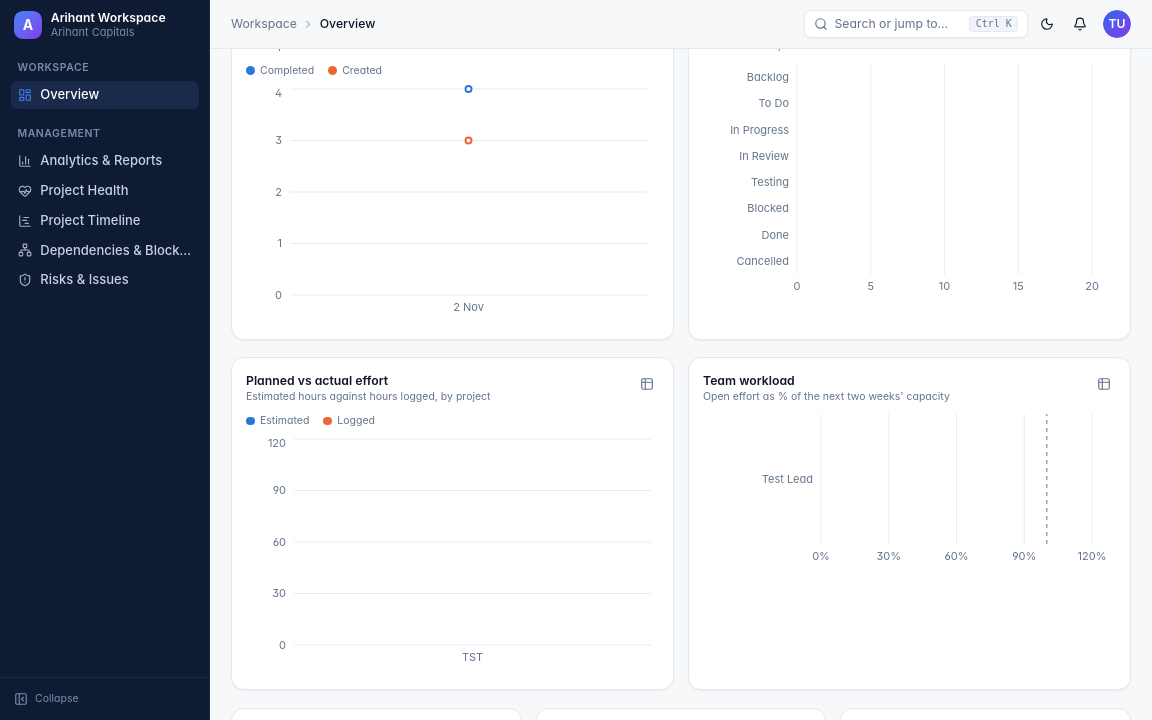
it: Executive dashboard › shows KPIs exactly as returned by the API and offers a table view of each chart
(page scrolled)
Click the button named "Show Team workload as a table" at (1104, 384), box [1092,372,1116,396]
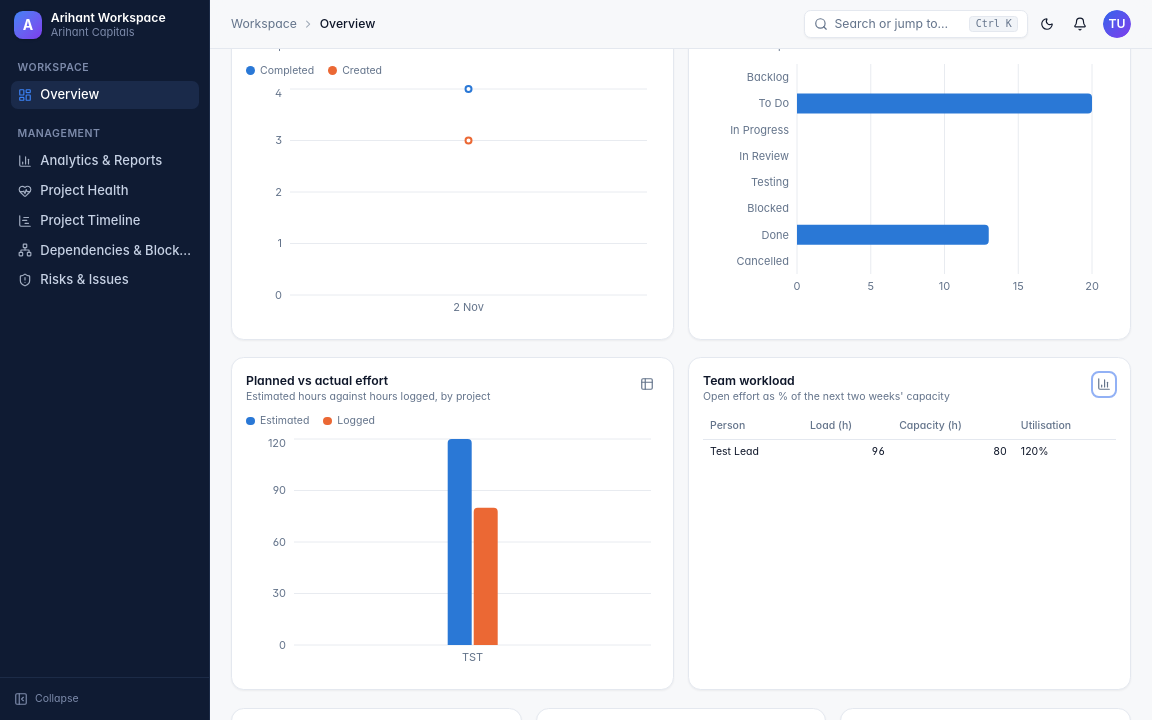
Result: the row "Test Lead 96 80 120%" is shown at [703,439,1116,464]
